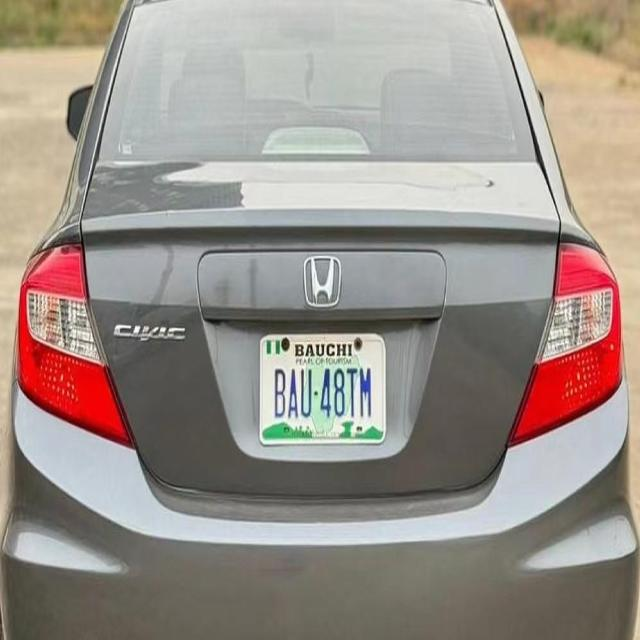Nigerian License Plate - vdataset benjamin-daria: (259, 329, 388, 449)
